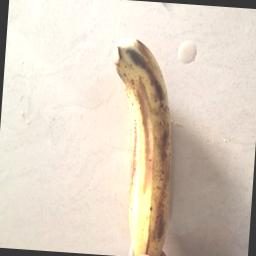Banana Ripe: (80, 17, 194, 256)
